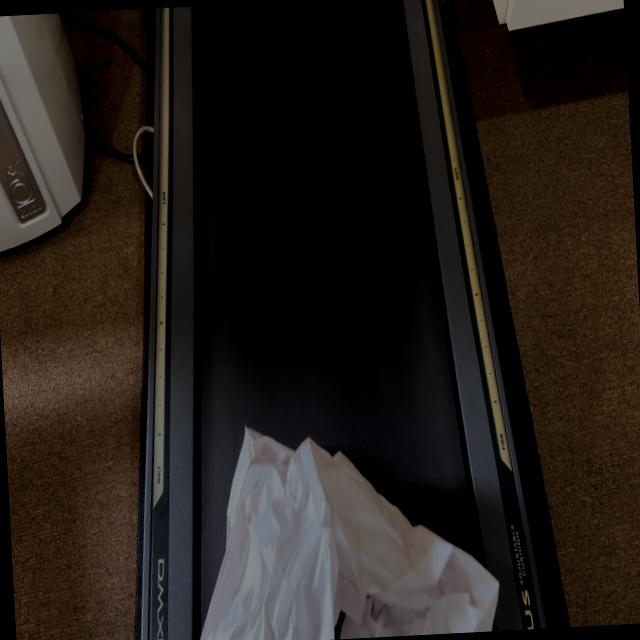Recycle: (185, 409, 502, 640)
